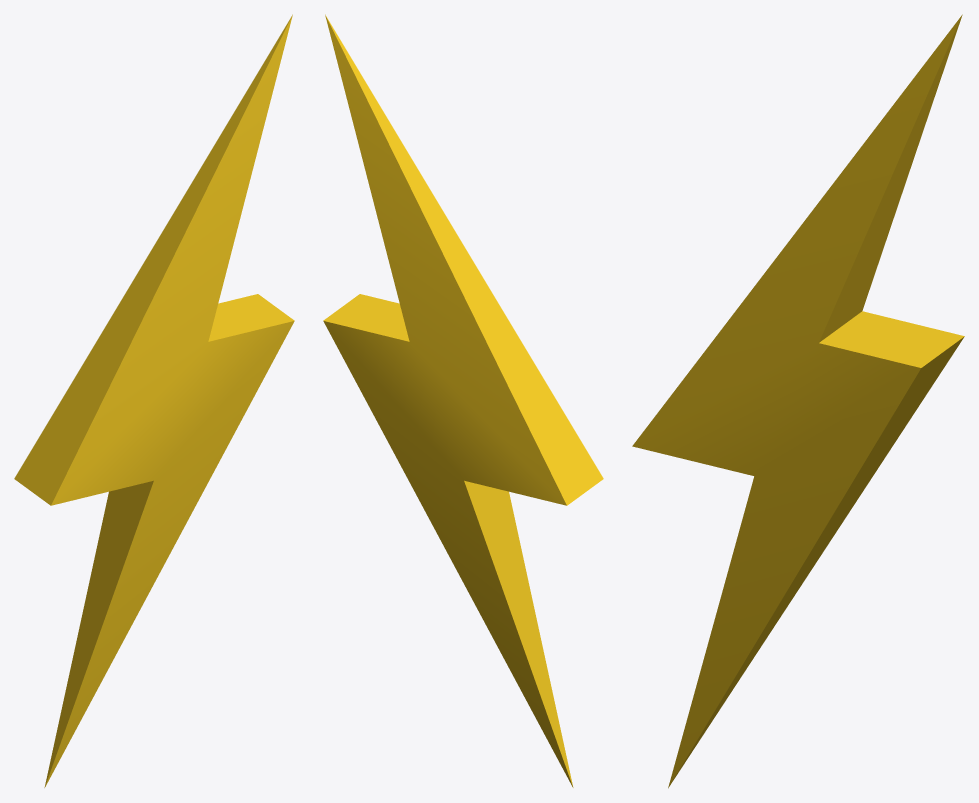
File: Healingitem_object.fbx
3 views of the same model, side by side, from view 1: azimuth 30°, elevation 25°; view 2: azimuth 150°, elevation 25°; view 3: azimuth 330°, elevation 25° (orthographic). The views are drawn at different scales.
Size of the model in its own units: 33.19 by 8.11 by 86.93.
